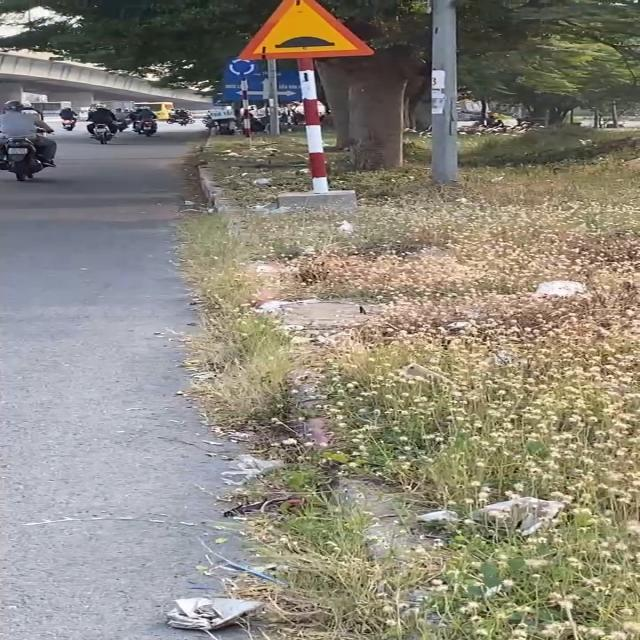221-duong-go-ghe: (239, 0, 374, 60)
303-noi-giao-nhau-chay-theo-vong-xuyen: (226, 56, 258, 79)
